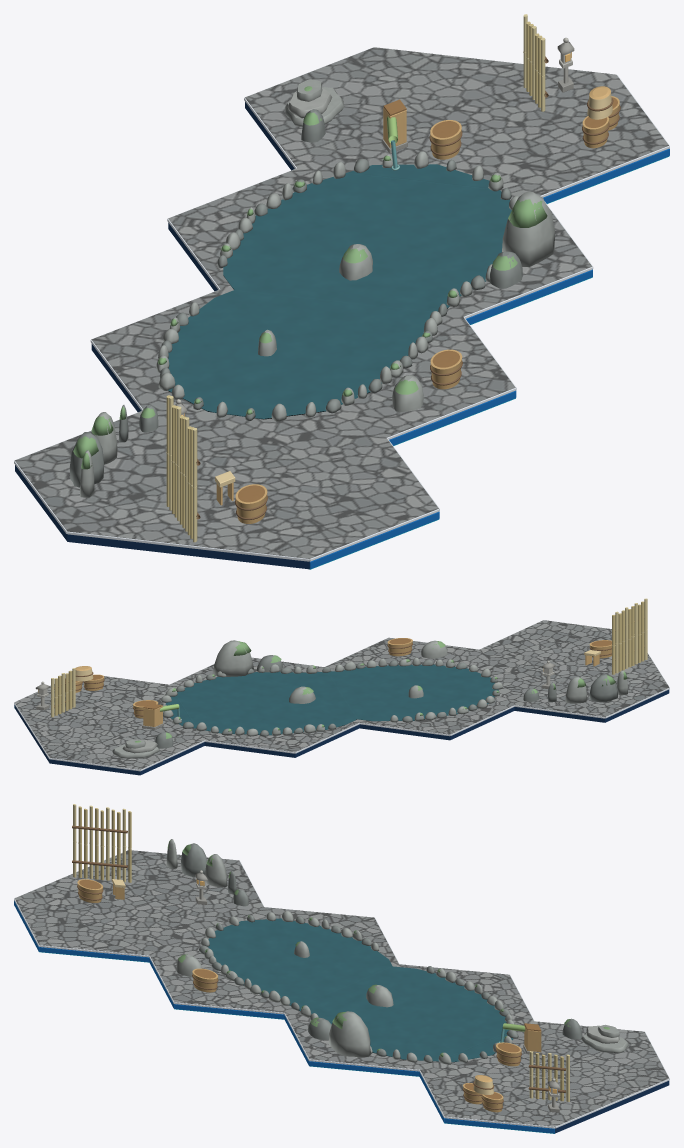
Rendered from field_cm19_01.glb.
The picture shows the model from 3 angles, top to bottom: view 1: azimuth 30°, elevation 25°; view 2: azimuth 150°, elevation 25°; view 3: azimuth 270°, elevation 25°; orthographic projection. The views are drawn at different scales.
Visible parts, largest first — view 1: field_cm19_01-hot-spring; view 2: field_cm19_01-hot-spring; view 3: field_cm19_01-hot-spring.
Part boxes in pixels (left/top/right/bottom): field_cm19_01-hot-spring: left=14, top=14, right=669, bottom=569; field_cm19_01-hot-spring: left=14, top=598, right=669, bottom=775; field_cm19_01-hot-spring: left=14, top=804, right=669, bottom=1133.
Size of the model in its own units: 20.6 by 2.75 by 20.6.
1 material, 1 textured.
